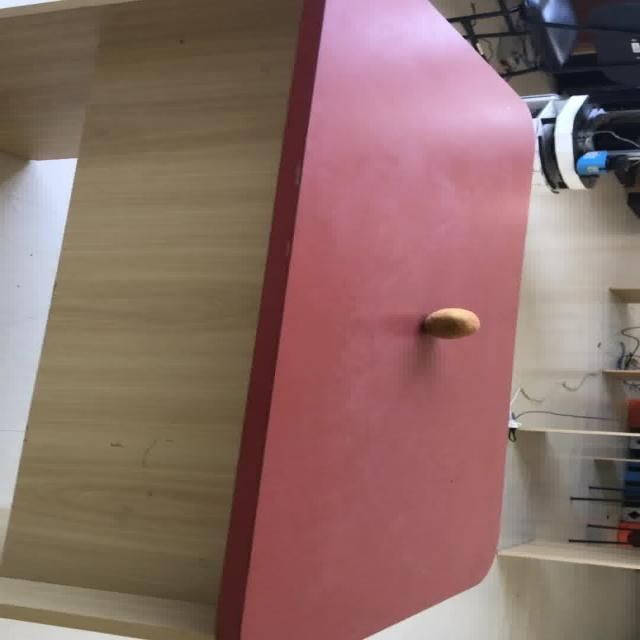kiwi: (422, 307, 479, 339)
